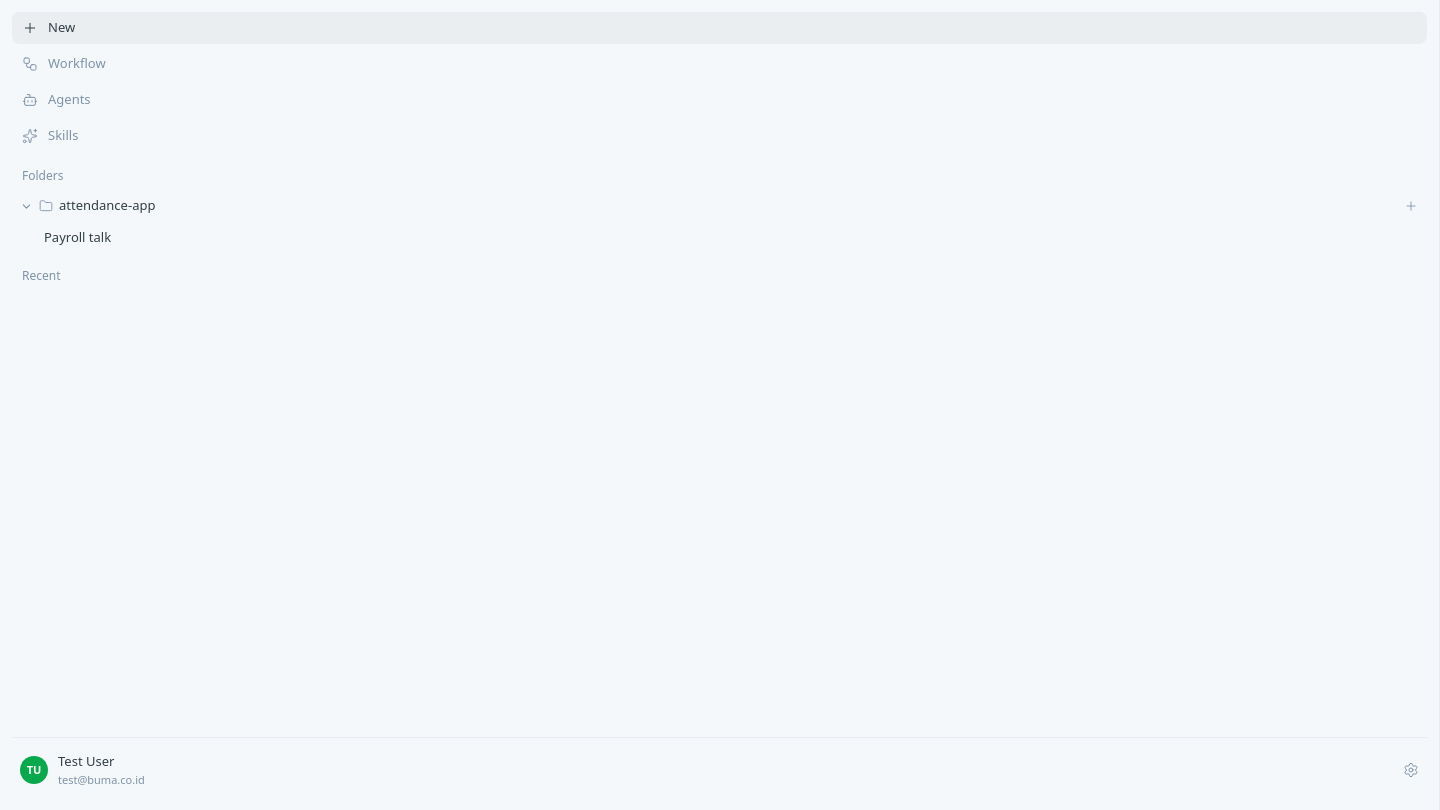
Test: folders attached to chats › the sidebar shows the folder as a group that hides and shows, with + for a new chat in it
This screenshot has width=1440, height=810.
Expected: the link "Payroll talk" is shown, [44,228,111,246]
Click the button "attendance-app" at (107, 205), box [12,192,1427,220]
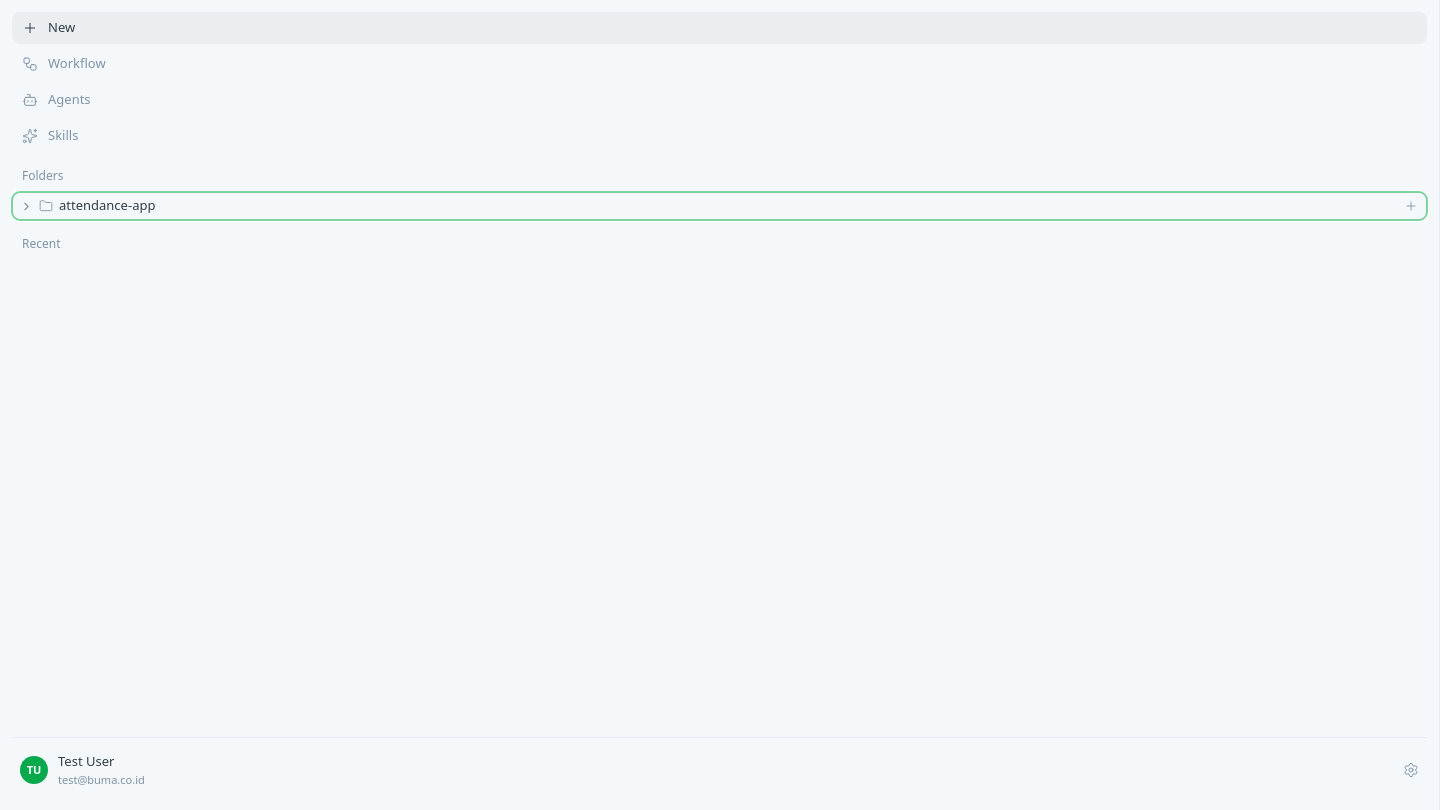
Expected: the link "Payroll talk" is gone
Click the button named "New chat in attendance-app" at (1411, 206), box [1399,194,1423,218]
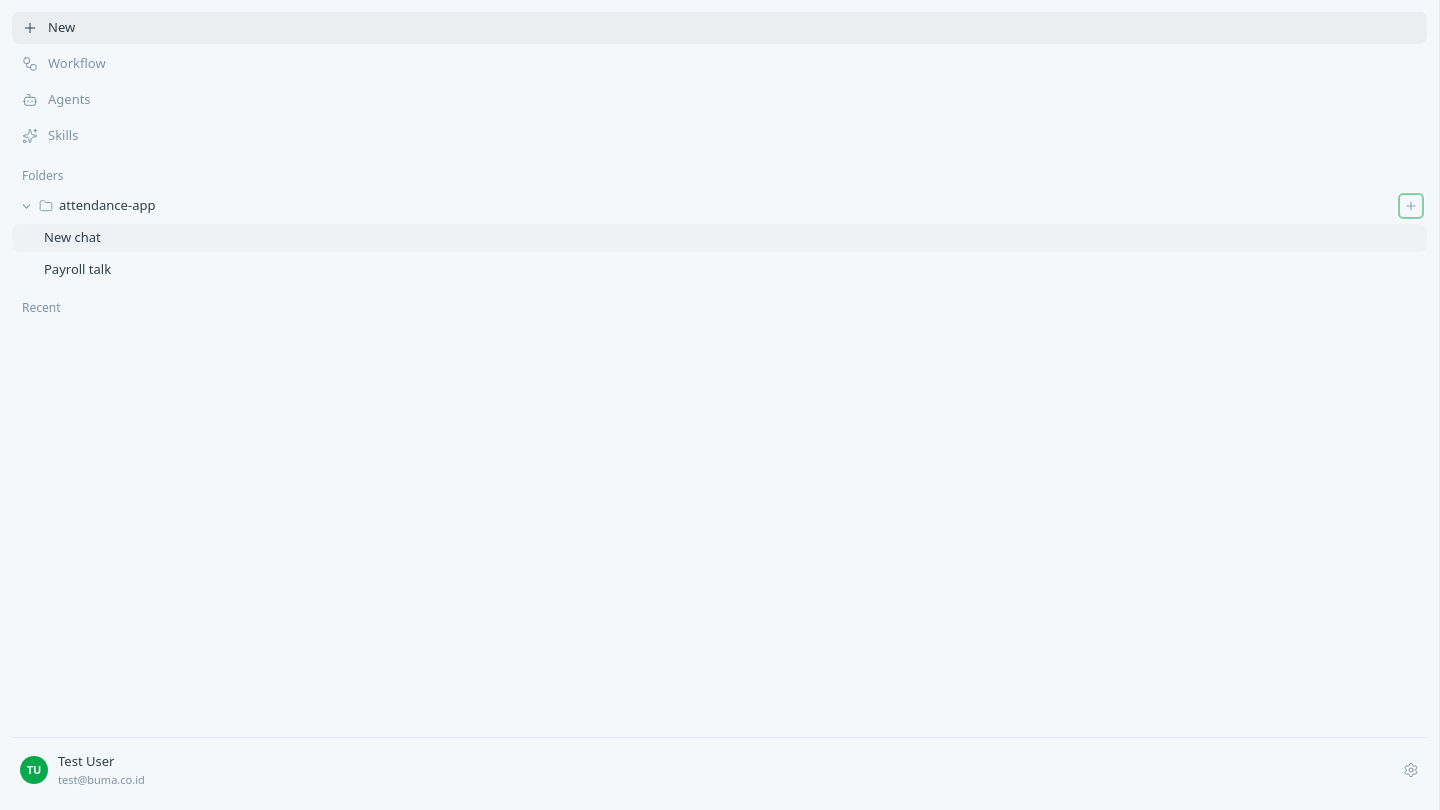
Expected: the link "New chat" is shown, [12,224,1427,252]
